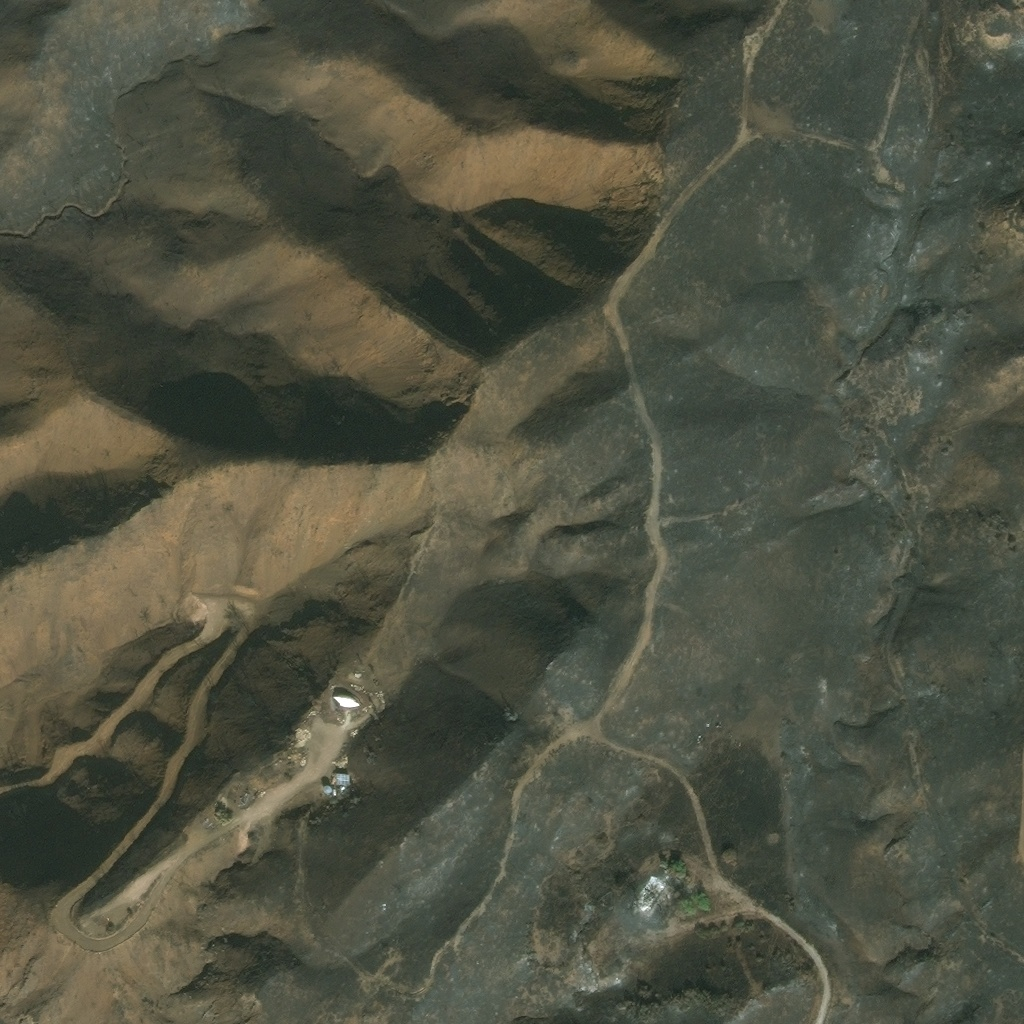0 no-damage: (332, 692, 361, 707), (336, 772, 349, 784), (322, 784, 332, 795)
3 destroyed: (644, 875, 669, 901), (237, 790, 250, 805)
